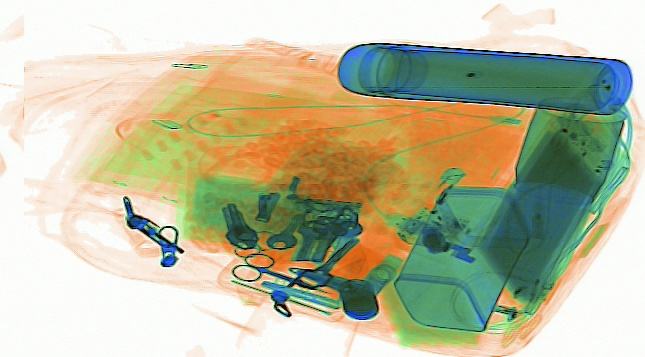lighter: (404, 166, 466, 231)
scissors: (229, 252, 332, 297)
